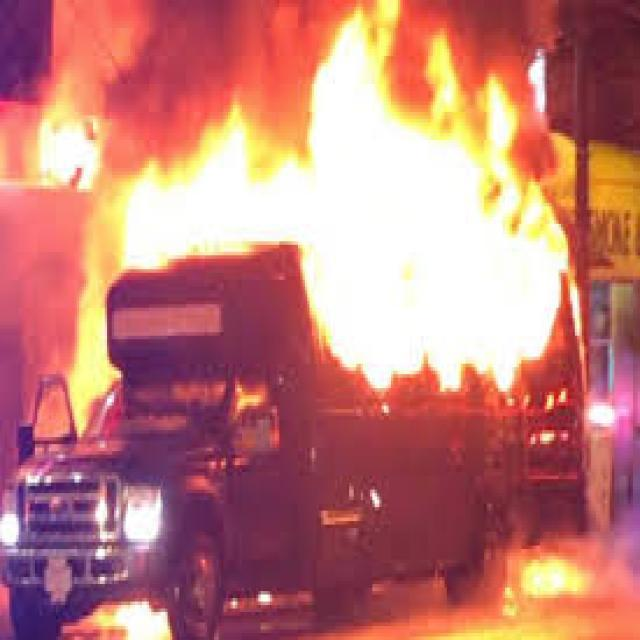Fire: (36, 0, 576, 359)
